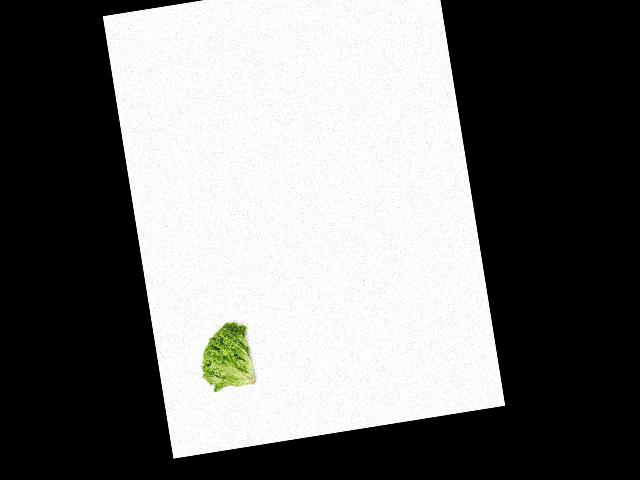lettuce: (190, 315, 263, 396)
